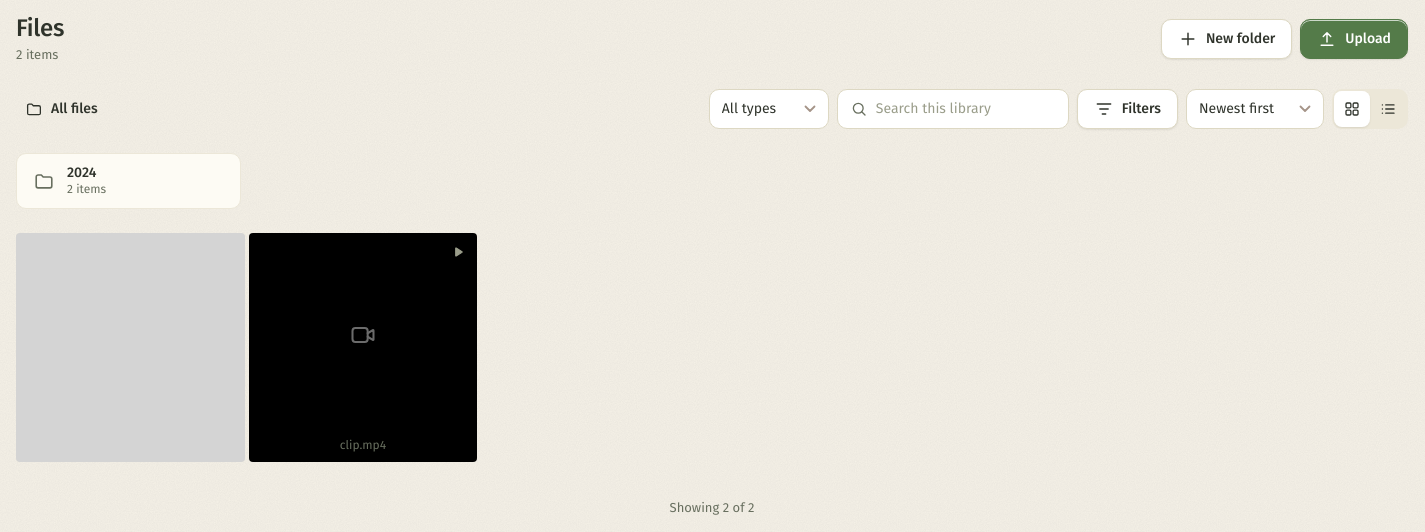
Test: MediaPage › switches to the list view
The width and height of the screenshot is (1425, 532).
Expected: the element with test id "file-grid" is shown, 16,232 -> 477,461
Click the button named "List" at (1388, 108), box 1370,90 -> 1406,126
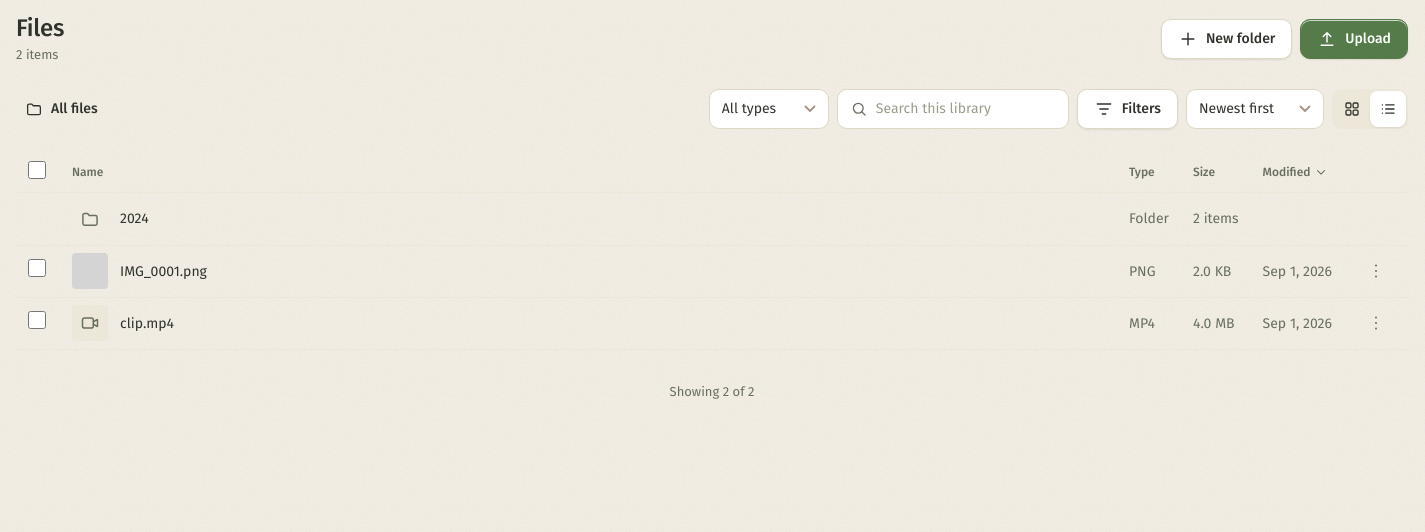
Now the button "IMG_0001.png" is shown, box 72,253 -> 207,289
